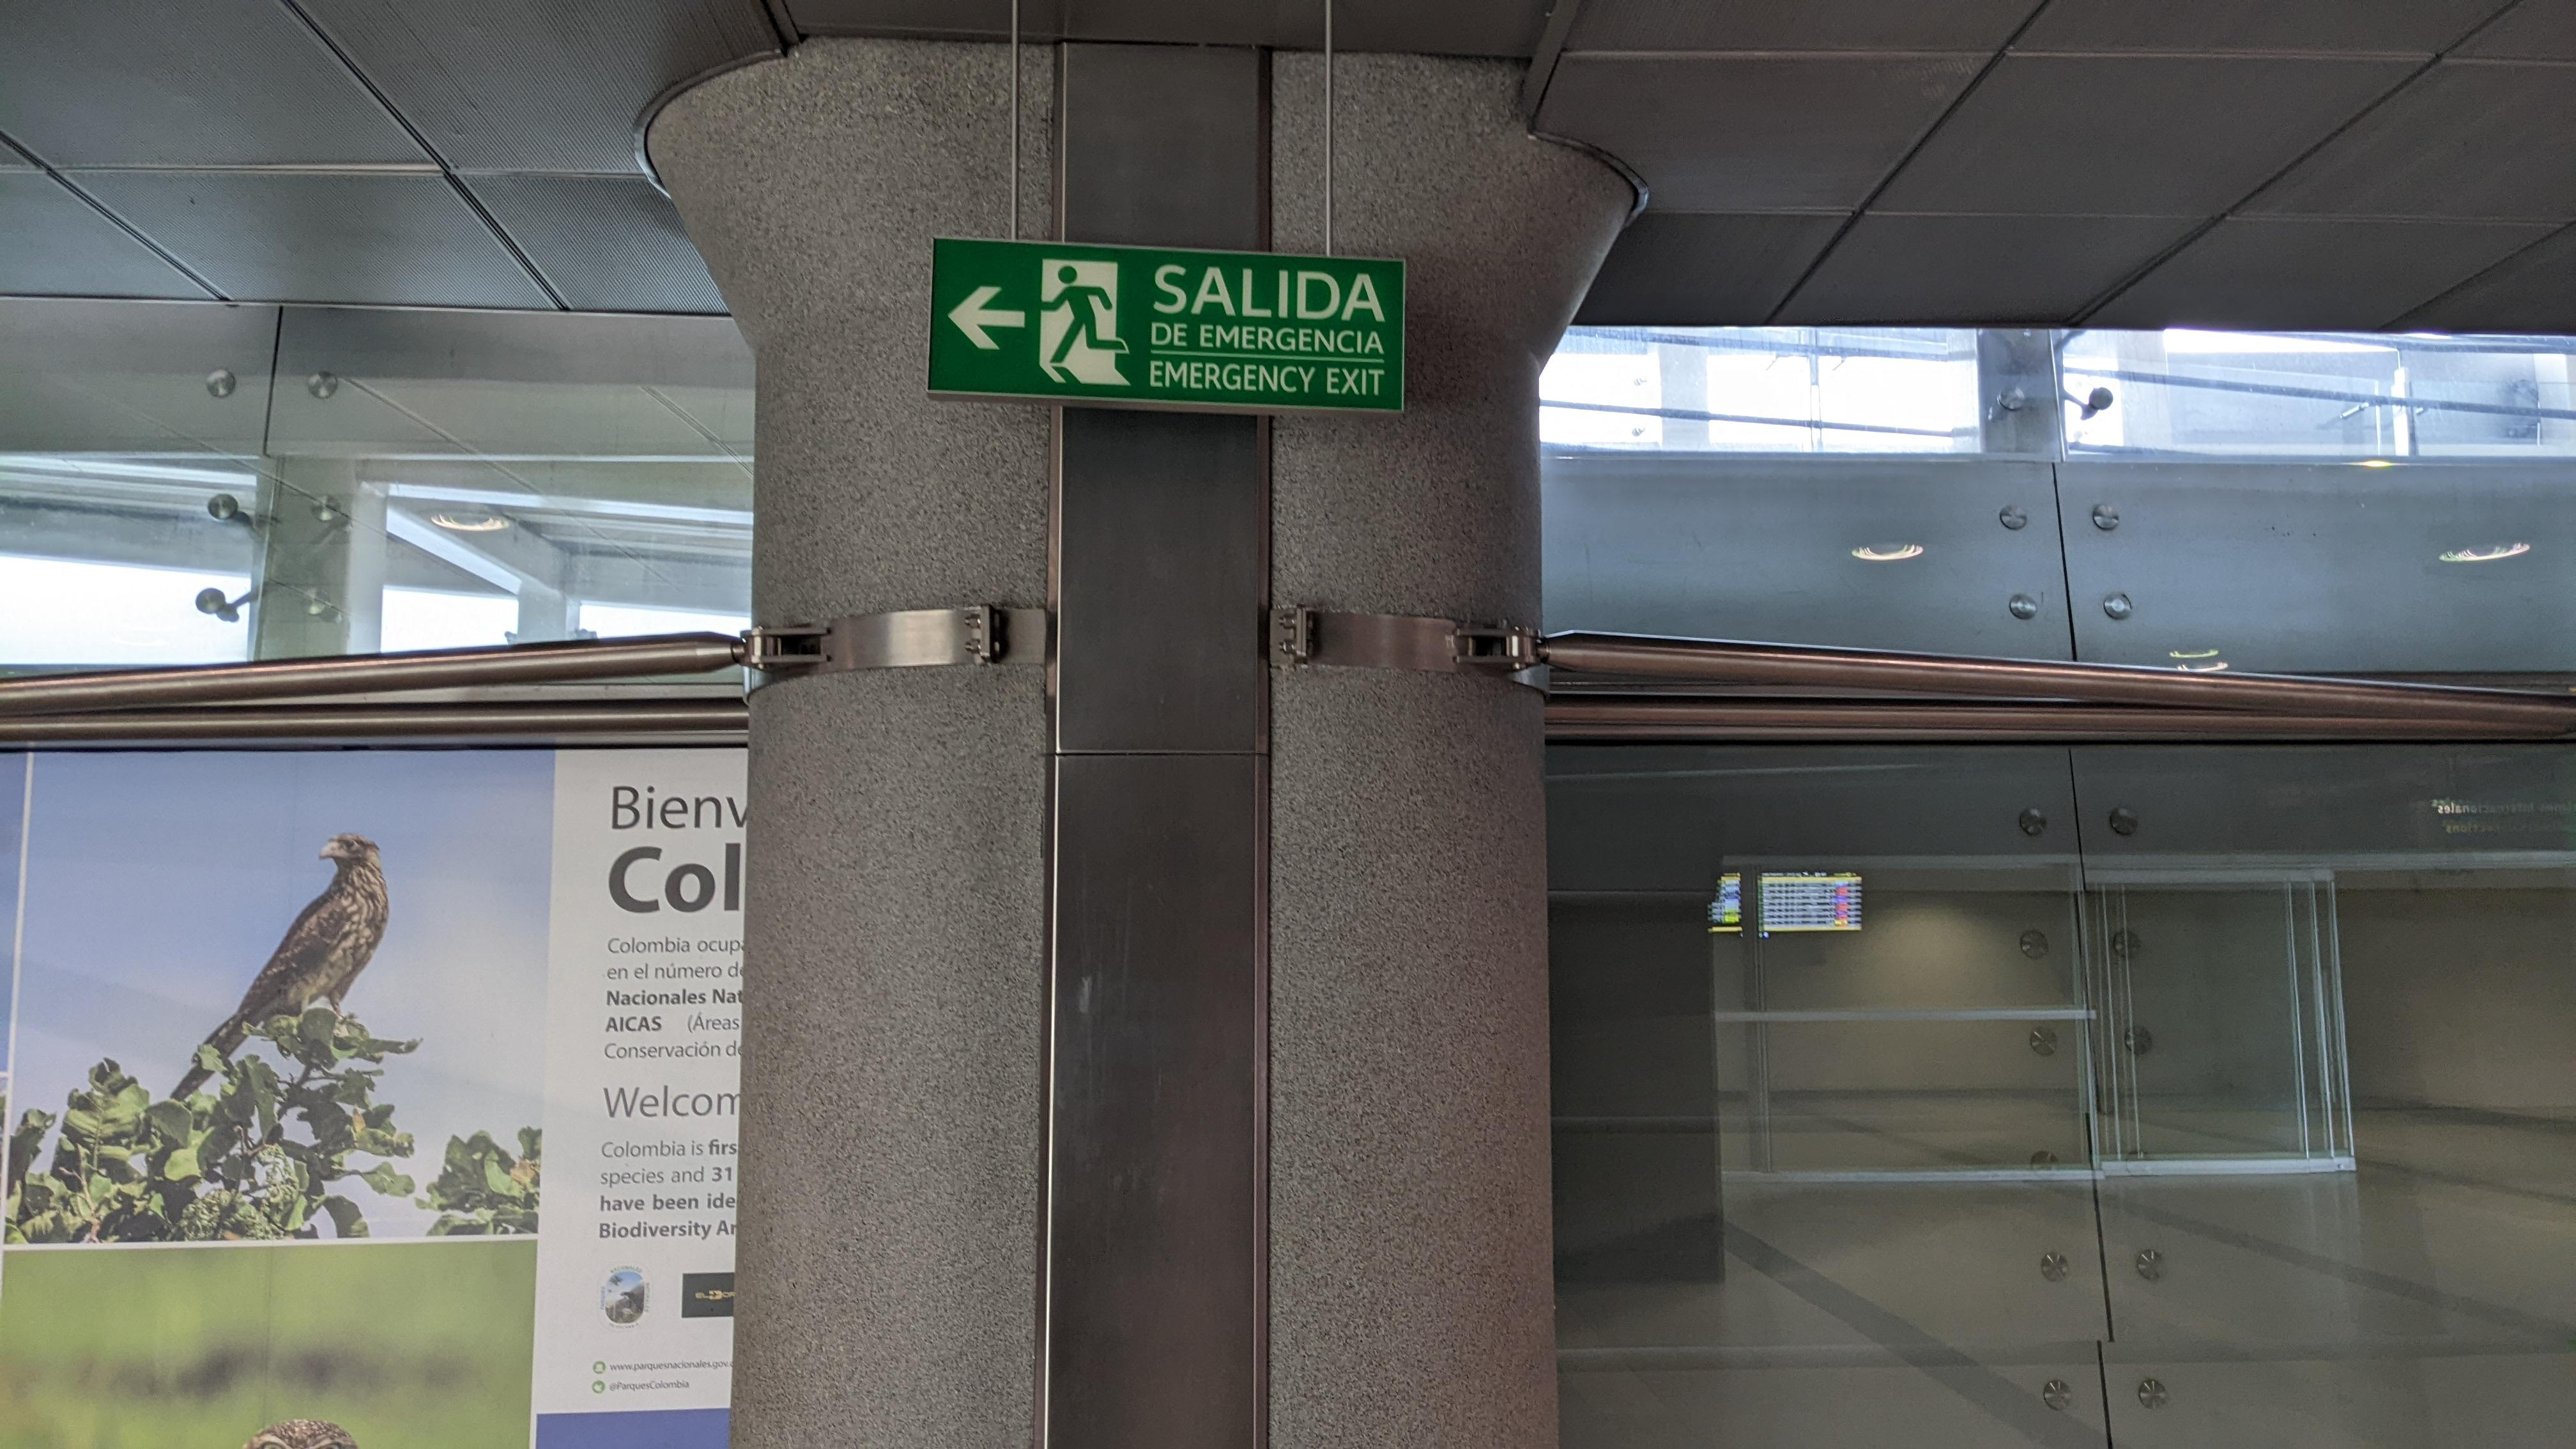emergency left arrow: (945, 281, 1028, 354)
extinguisher symbol: (1037, 255, 1134, 389)
